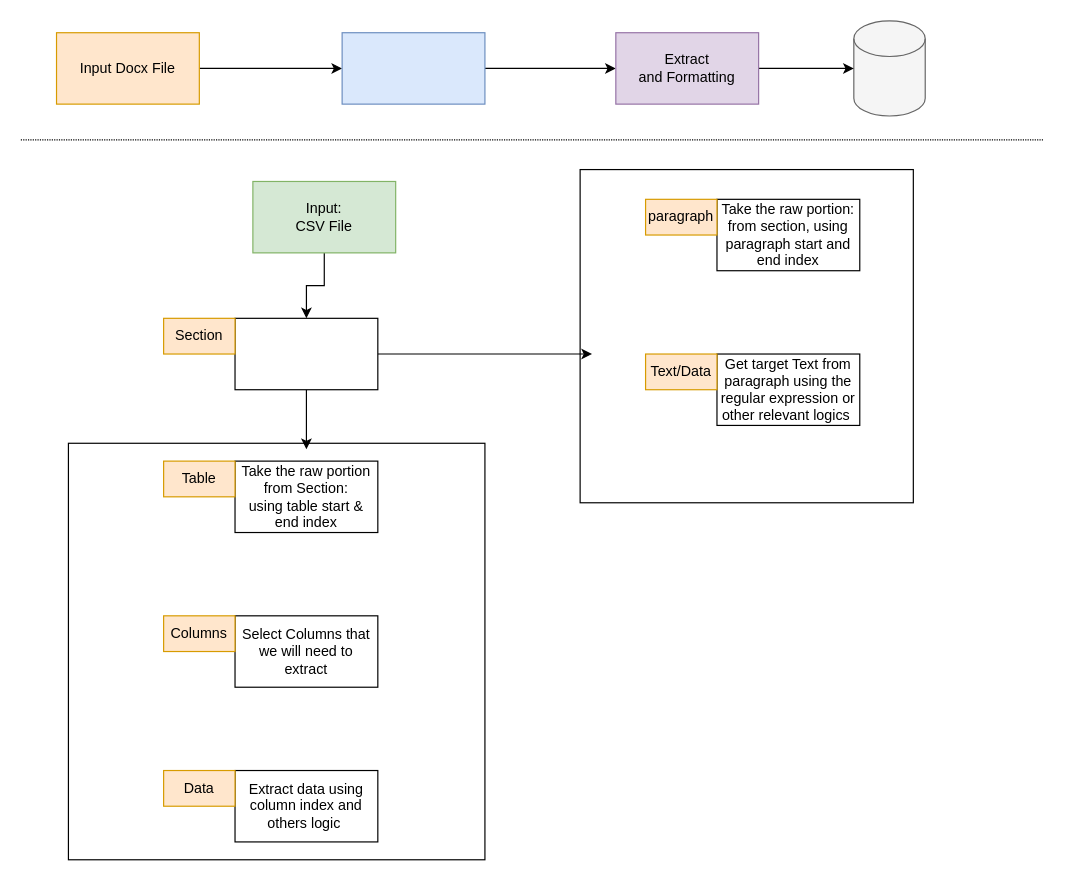
This 1066x881 diagram has some shape labels left out. Each missing label, with the box of its shape:
Convert Into PDF Text File CSV: (341, 32, 485, 104)
DB: (853, 20, 925, 116)
Take the raw portion: using section: (234, 317, 378, 390)
